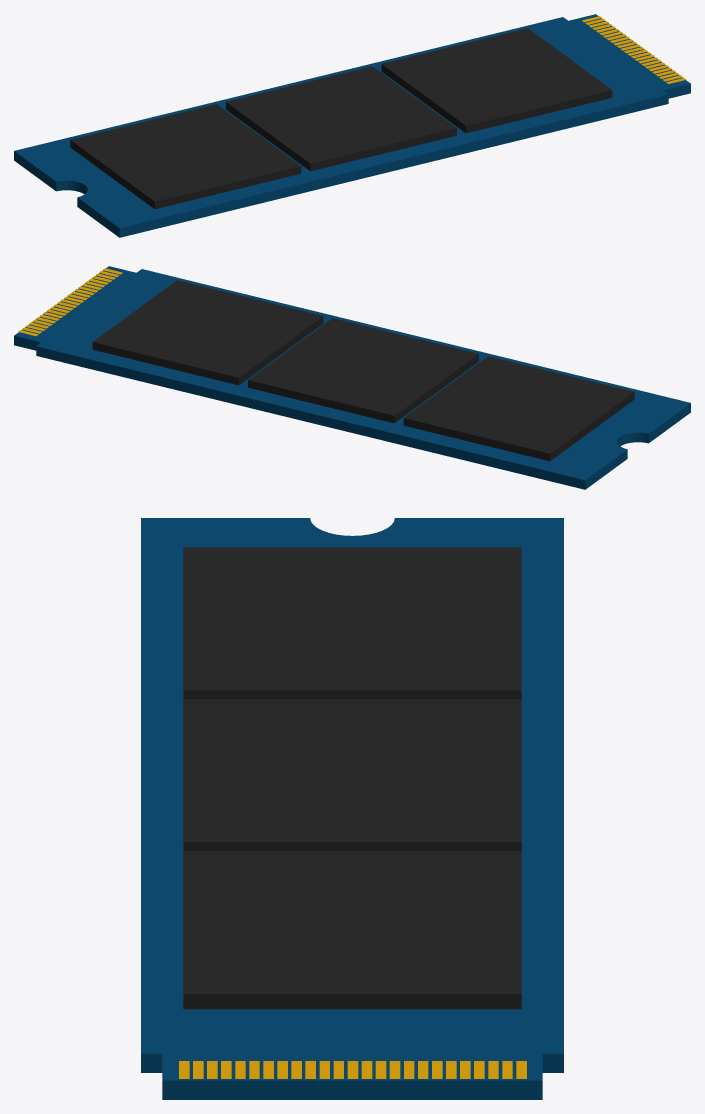
Rendered from ssd disk.fbx.
3 renders of one model, top to bottom at view 1: azimuth 30°, elevation 25°; view 2: azimuth 150°, elevation 25°; view 3: azimuth 270°, elevation 25°, orthographic. The views are drawn at different scales.
Parts seen in each view (by area): view 1: Base, Chip 3, Chip 1, Chip 2, Base connector, Connector; view 2: Base, Chip 3, Chip 1, Chip 2, Base connector, Connector; view 3: Base, Chip 1, Chip 3, Chip 2, Base connector, Connector.
Boxes of the visible parts, x1,y1,x2,y2 form: Base: (14, 17, 668, 237); Chip 3: (70, 104, 301, 209); Chip 1: (381, 28, 612, 133); Chip 2: (226, 66, 456, 171); Base connector: (568, 14, 690, 98); Connector: (582, 16, 686, 83); Base: (36, 269, 690, 489); Chip 3: (403, 356, 634, 461); Chip 1: (92, 280, 323, 385); Chip 2: (248, 318, 478, 423); Base connector: (14, 266, 136, 350); Connector: (18, 268, 122, 336); Base: (141, 518, 563, 1072); Chip 1: (183, 851, 521, 1009); Chip 3: (183, 547, 521, 699); Chip 2: (183, 699, 521, 850); Base connector: (162, 1054, 542, 1099); Connector: (179, 1061, 526, 1078).
Bounding box in the file's own units: 6.3 × 0.18 × 2.
